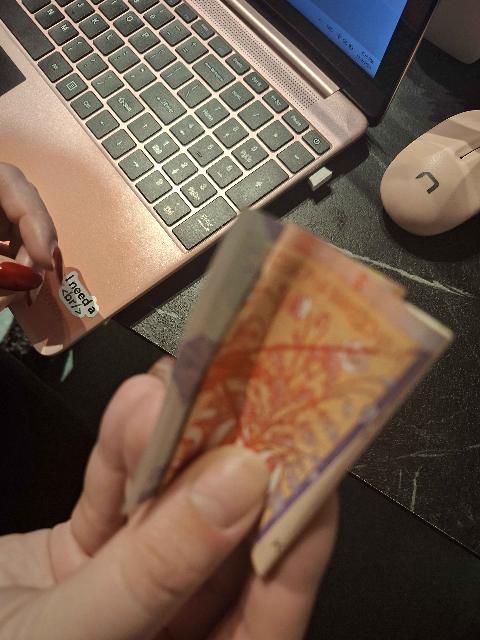500_note: (132, 213, 447, 558)
